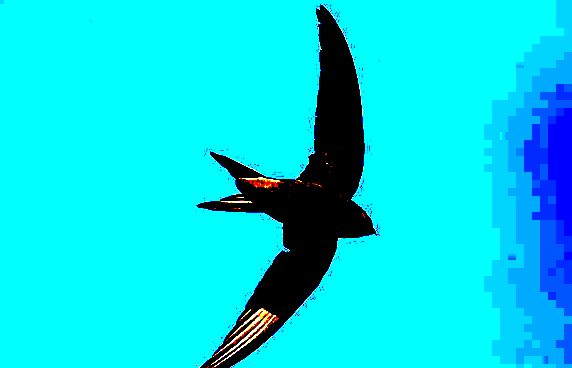Bird: (197, 1, 380, 365)
